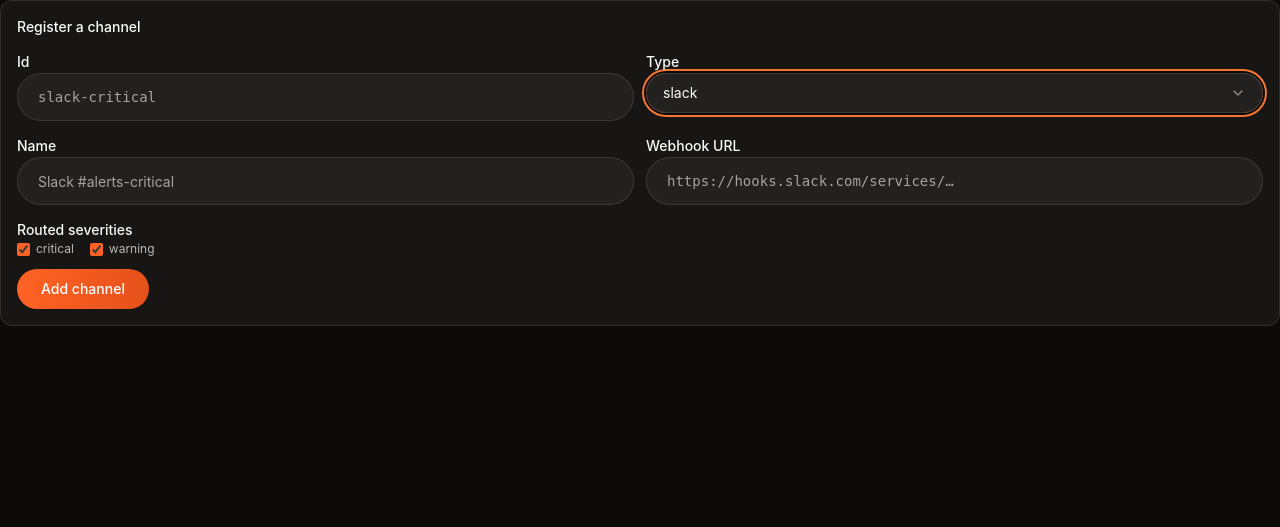
Test case: ChannelRegistry › relabels the endpoint field when the channel type is email-mock
The width and height of the screenshot is (1280, 527).
Expected: the text "Register a channel" is shown, [17,18,141,35]
Press Enter
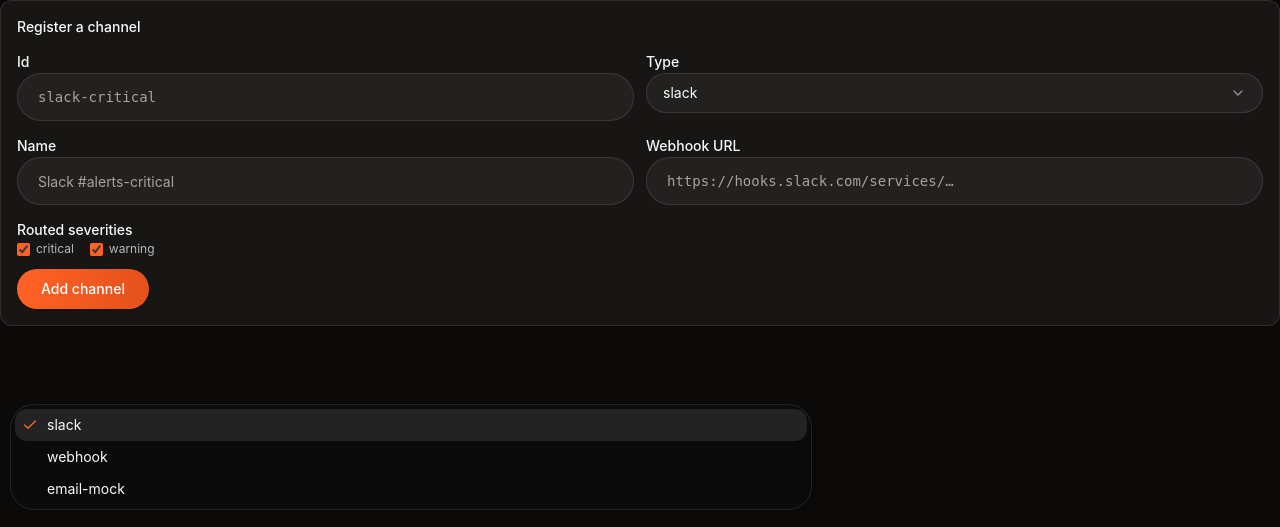
Click the option "email-mock" at (86, 488), box [47,480,125,497]
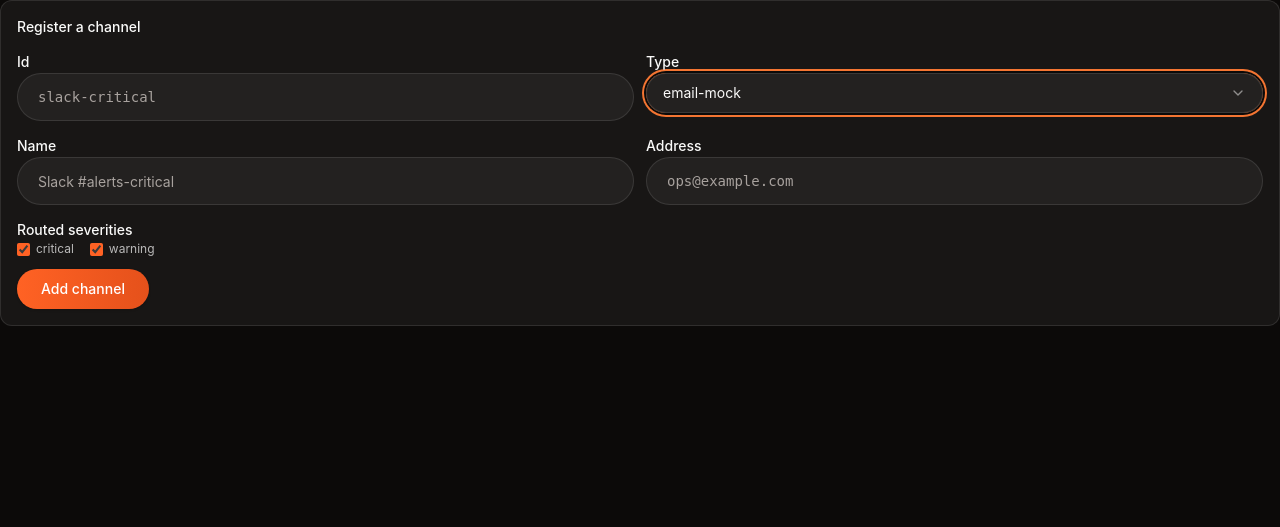
Expected: the field labelled "Address" is shown, [646,157,1263,205]
Expected: the label labelled "Webhook URL" is gone
